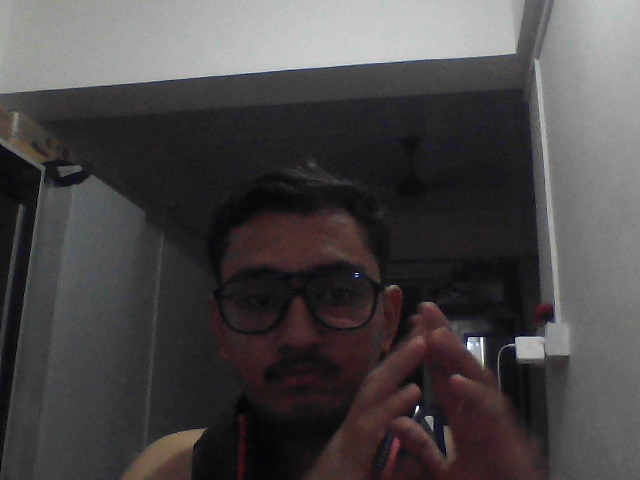Thank You: (302, 257, 548, 480)
